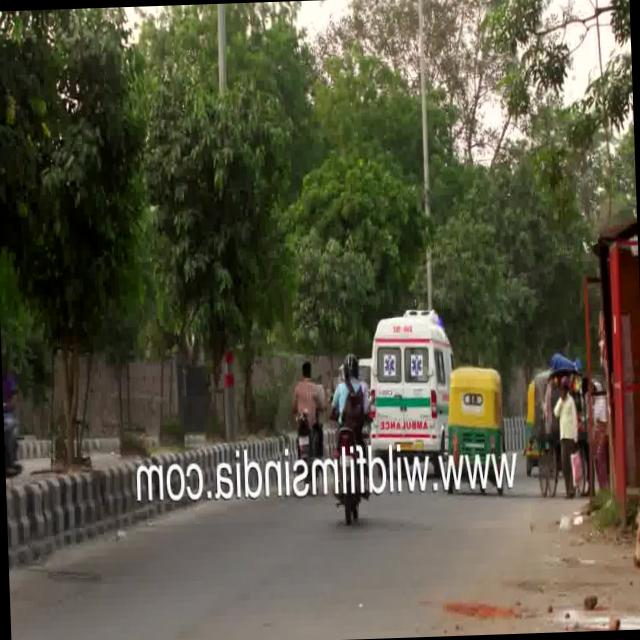ambulance: (366, 301, 456, 452)
